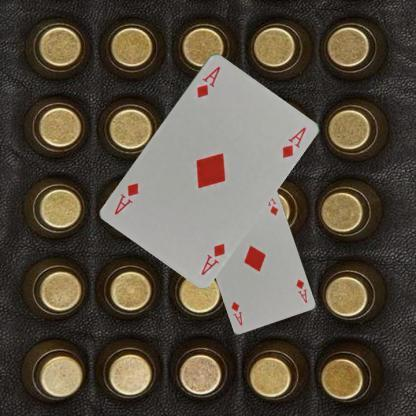Ad: (192, 63, 222, 100), (198, 240, 227, 277), (292, 277, 309, 304)
